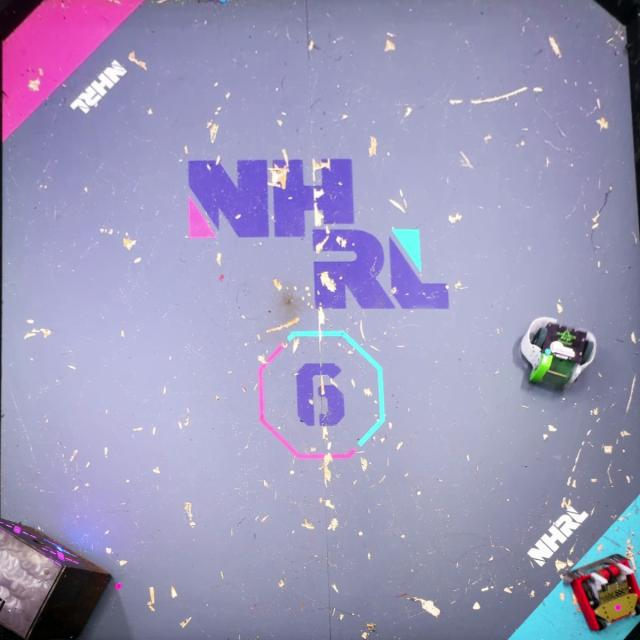housebot: (0, 516, 115, 640)
robot: (565, 552, 640, 635), (520, 316, 598, 393)
